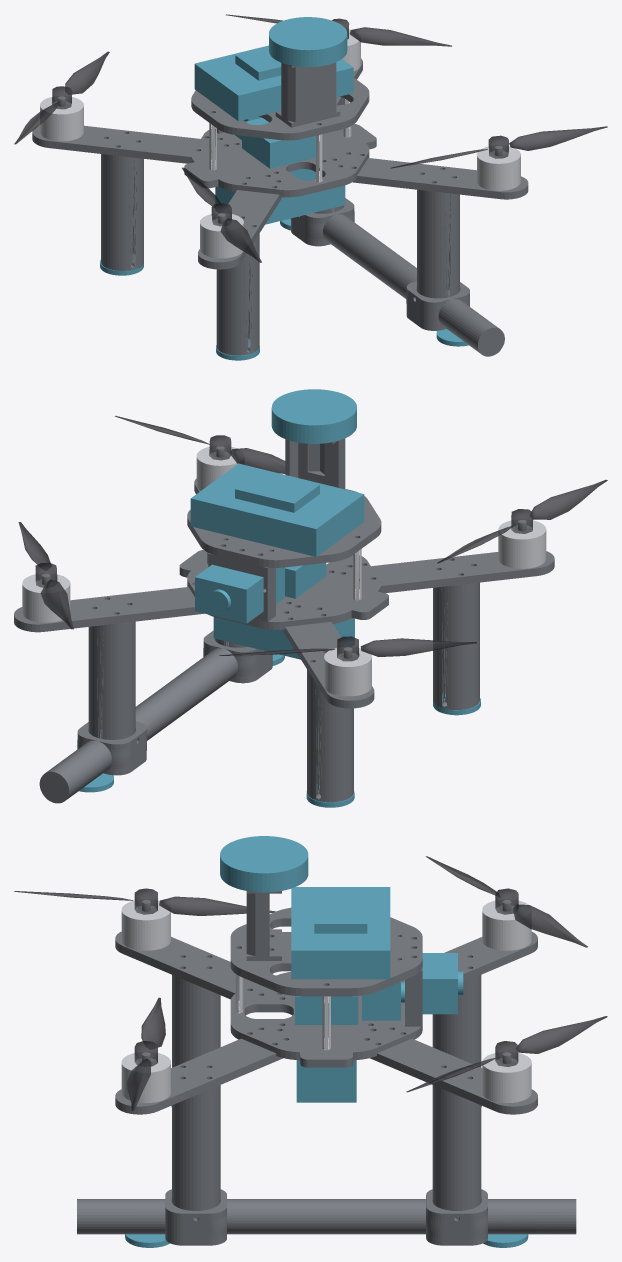
The model's file is lynceus.glb.
The picture shows the model from 3 angles, top to bottom: view 1: azimuth 30°, elevation 25°; view 2: azimuth 150°, elevation 25°; view 3: azimuth 270°, elevation 25°; orthographic projection. The views are drawn at different scales.
Parts seen in each view (by area): view 1: Lynceus V2; view 2: Lynceus V2; view 3: Lynceus V2.
Boxes of the visible parts, x1=… form: Lynceus V2: x1=14, y1=14, x2=607, y2=360; Lynceus V2: x1=14, y1=389, x2=607, y2=807; Lynceus V2: x1=14, y1=836, x2=607, y2=1247.
Bounding box in the file's own units: 0.3411 × 0.2047 × 0.336.
